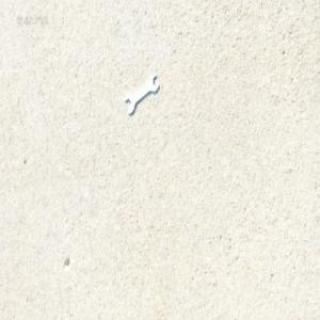Wrenchtrack_idkeyframe: (124, 72, 159, 113)
